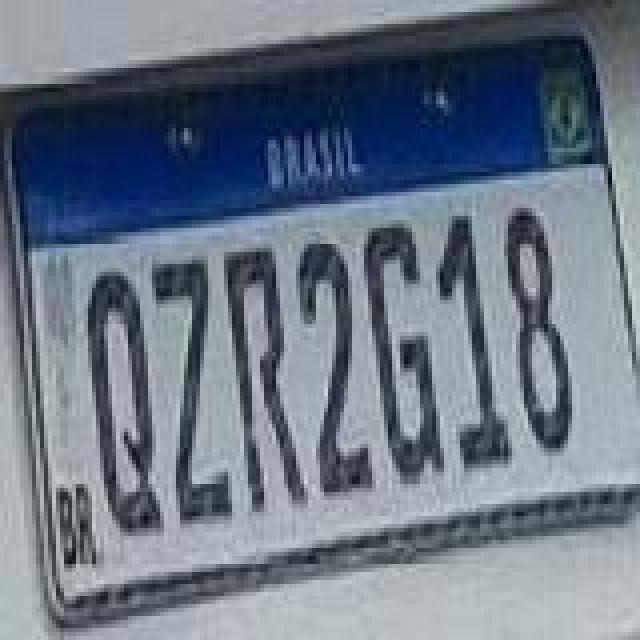1: (432, 212, 512, 476)
2: (296, 232, 376, 504)
8: (500, 204, 572, 452)
G: (362, 222, 446, 482)
Q: (82, 272, 166, 536)
R: (222, 244, 306, 508)
Z: (152, 256, 232, 528)
